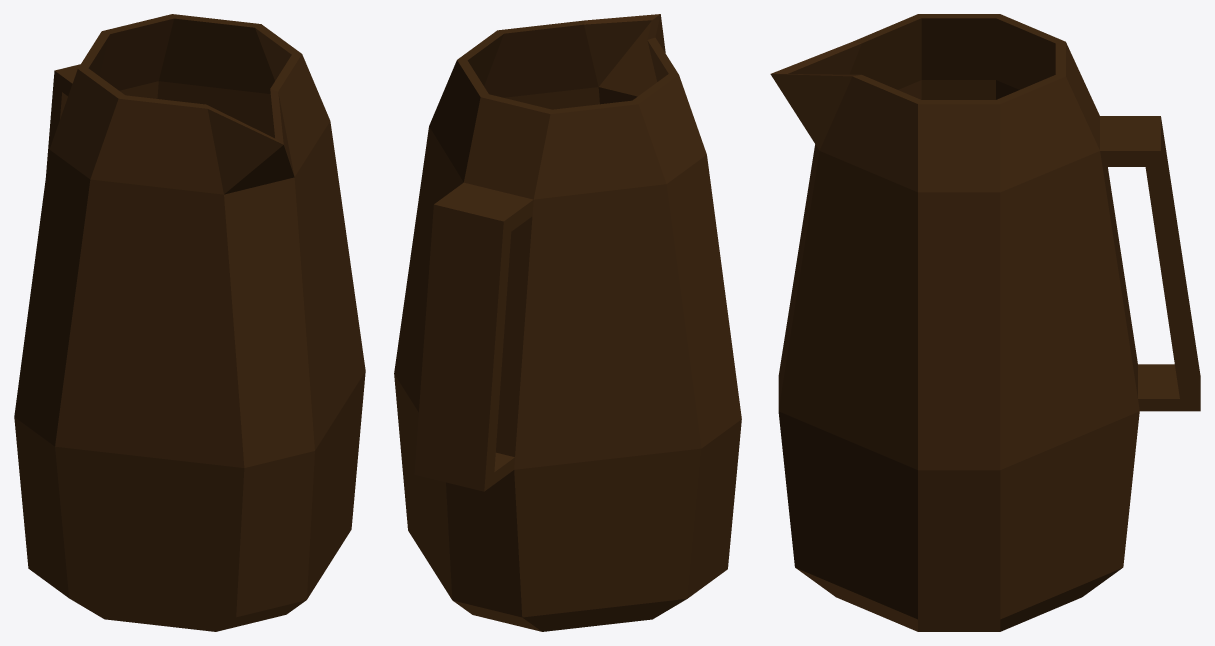
Rendered from jar.fbx.
3 views of the same model, side by side, from view 1: azimuth 30°, elevation 25°; view 2: azimuth 150°, elevation 25°; view 3: azimuth 270°, elevation 25° (orthographic).
Visible parts, largest first — view 1: cruche; view 2: cruche; view 3: cruche.
Boxes of the visible parts, box(x1,y1,x2,y2) form: cruche: box(14, 14, 365, 631); cruche: box(394, 14, 741, 631); cruche: box(770, 14, 1200, 631).
Size of the model in its own units: 440 by 700 by 524.
